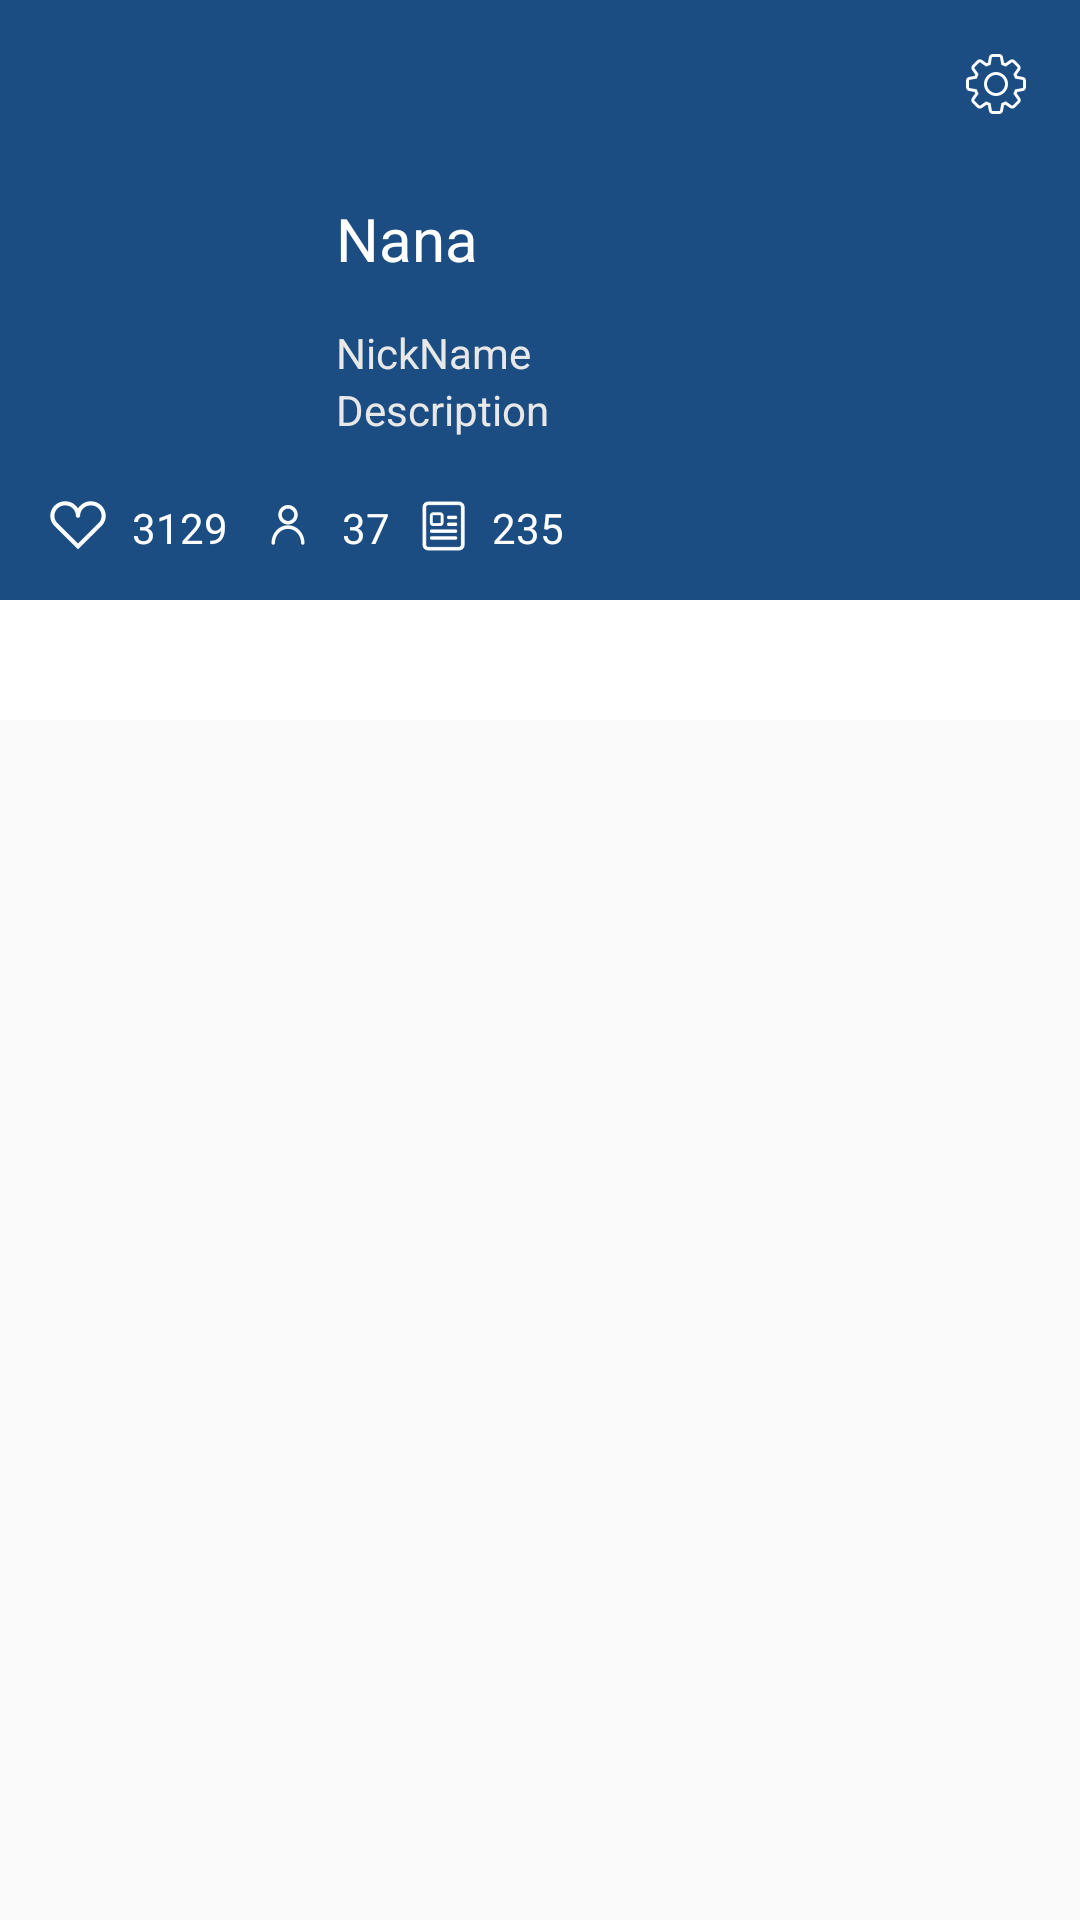

Point at icon controls on the screen. Image size 1080*1920, points as (x,y).
feed: (443,526)
heart: (78,525)
setting: (996,84)
user: (288,525)
